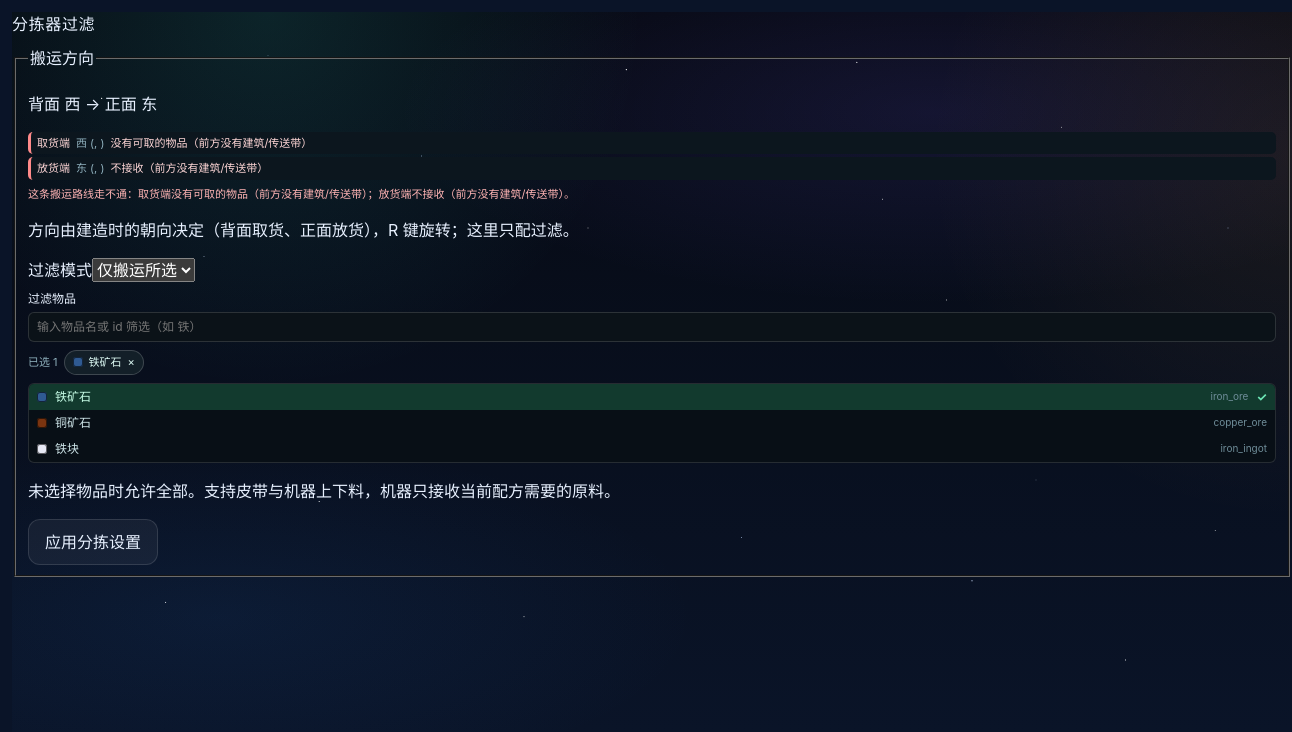
Test: 试玩 1016 U2：搜索无命中时给一句提示，而不是空列表
Type "不存在" into the search field named "搜索过滤物品" at coordinates (652, 327), box [28,312,1276,342]
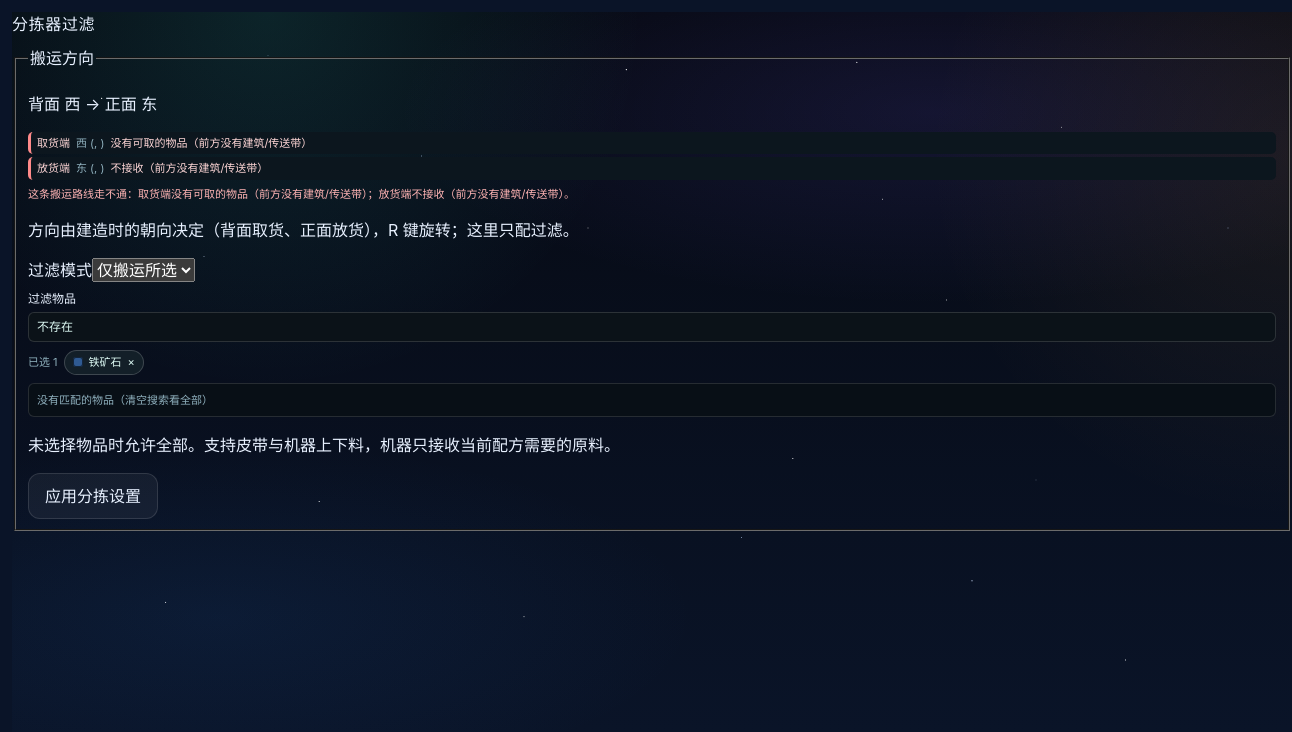
Check: no options are shown
Check: the list item "没有匹配的物品（清空搜索看全部）" is shown, box [37,393,213,407]
